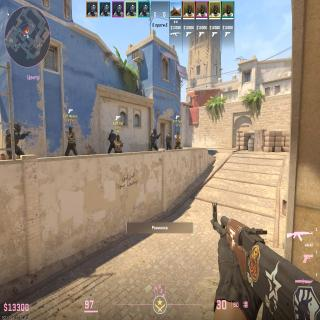CT-Body: (6, 121, 21, 157), (108, 129, 116, 152), (150, 128, 157, 150), (166, 132, 171, 148)
CT-Head: (14, 121, 21, 132), (153, 128, 156, 134), (111, 129, 114, 134), (168, 133, 170, 135)
T-Body: (66, 126, 76, 156), (115, 134, 123, 152), (174, 130, 180, 148)
T-Head: (68, 126, 72, 134), (116, 135, 120, 141), (176, 130, 179, 135)
